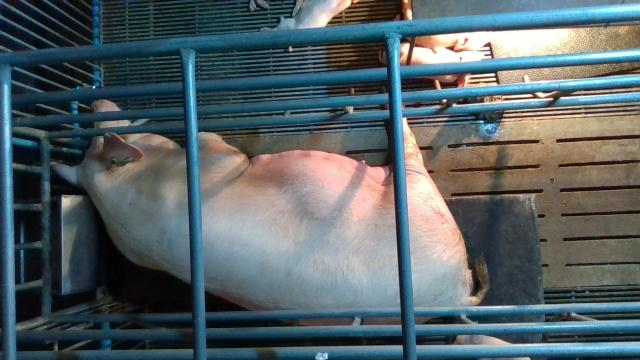piglet: (380, 42, 484, 89), (261, 0, 361, 30)
sow-sleep: (52, 99, 490, 324)
